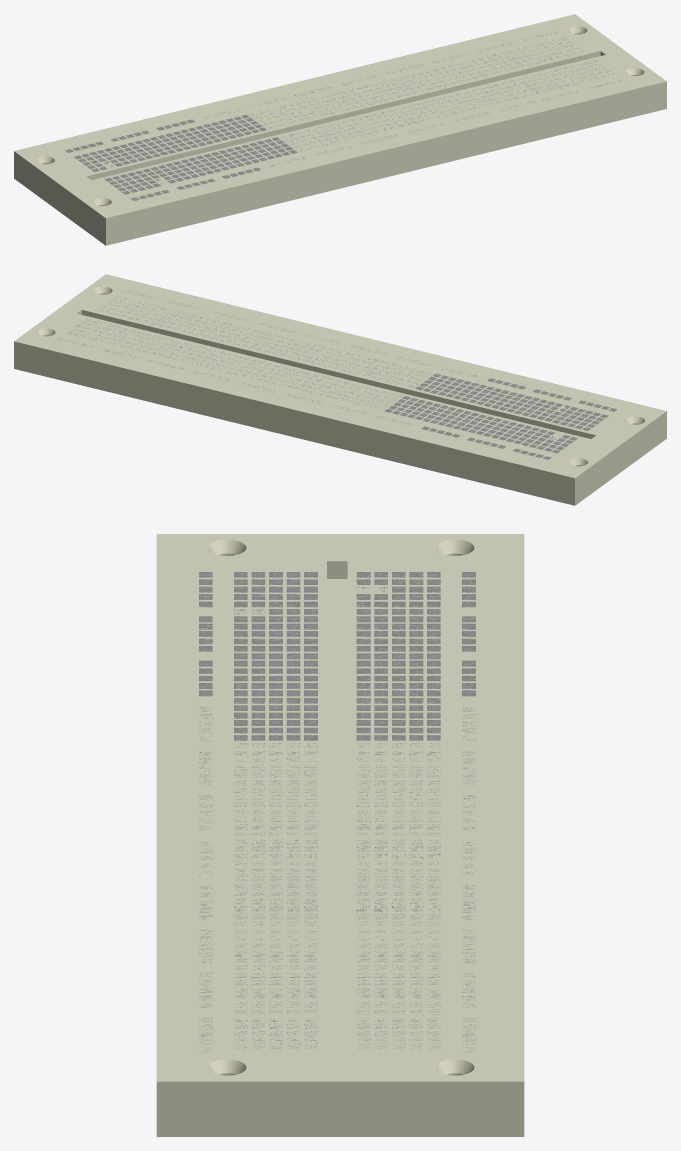
3 views of the same model, one above another, from view 1: azimuth 30°, elevation 25°; view 2: azimuth 150°, elevation 25°; view 3: azimuth 270°, elevation 25° (orthographic). The views are drawn at different scales.
Parts seen in each view (by area): view 1: ID91, ID1587; view 2: ID91, ID1587; view 3: ID91, ID1587.
Boxes of the visible parts, left/top/right/bottom form: ID91: left=14, top=14, right=666, bottom=245; ID1587: left=86, top=51, right=605, bottom=180; ID91: left=14, top=274, right=666, bottom=505; ID1587: left=77, top=310, right=595, bottom=438; ID91: left=156, top=534, right=524, bottom=1136; ID1587: left=327, top=561, right=347, bottom=1063.
Size of the model in its own units: 7.39 by 2.09 by 0.3465.
